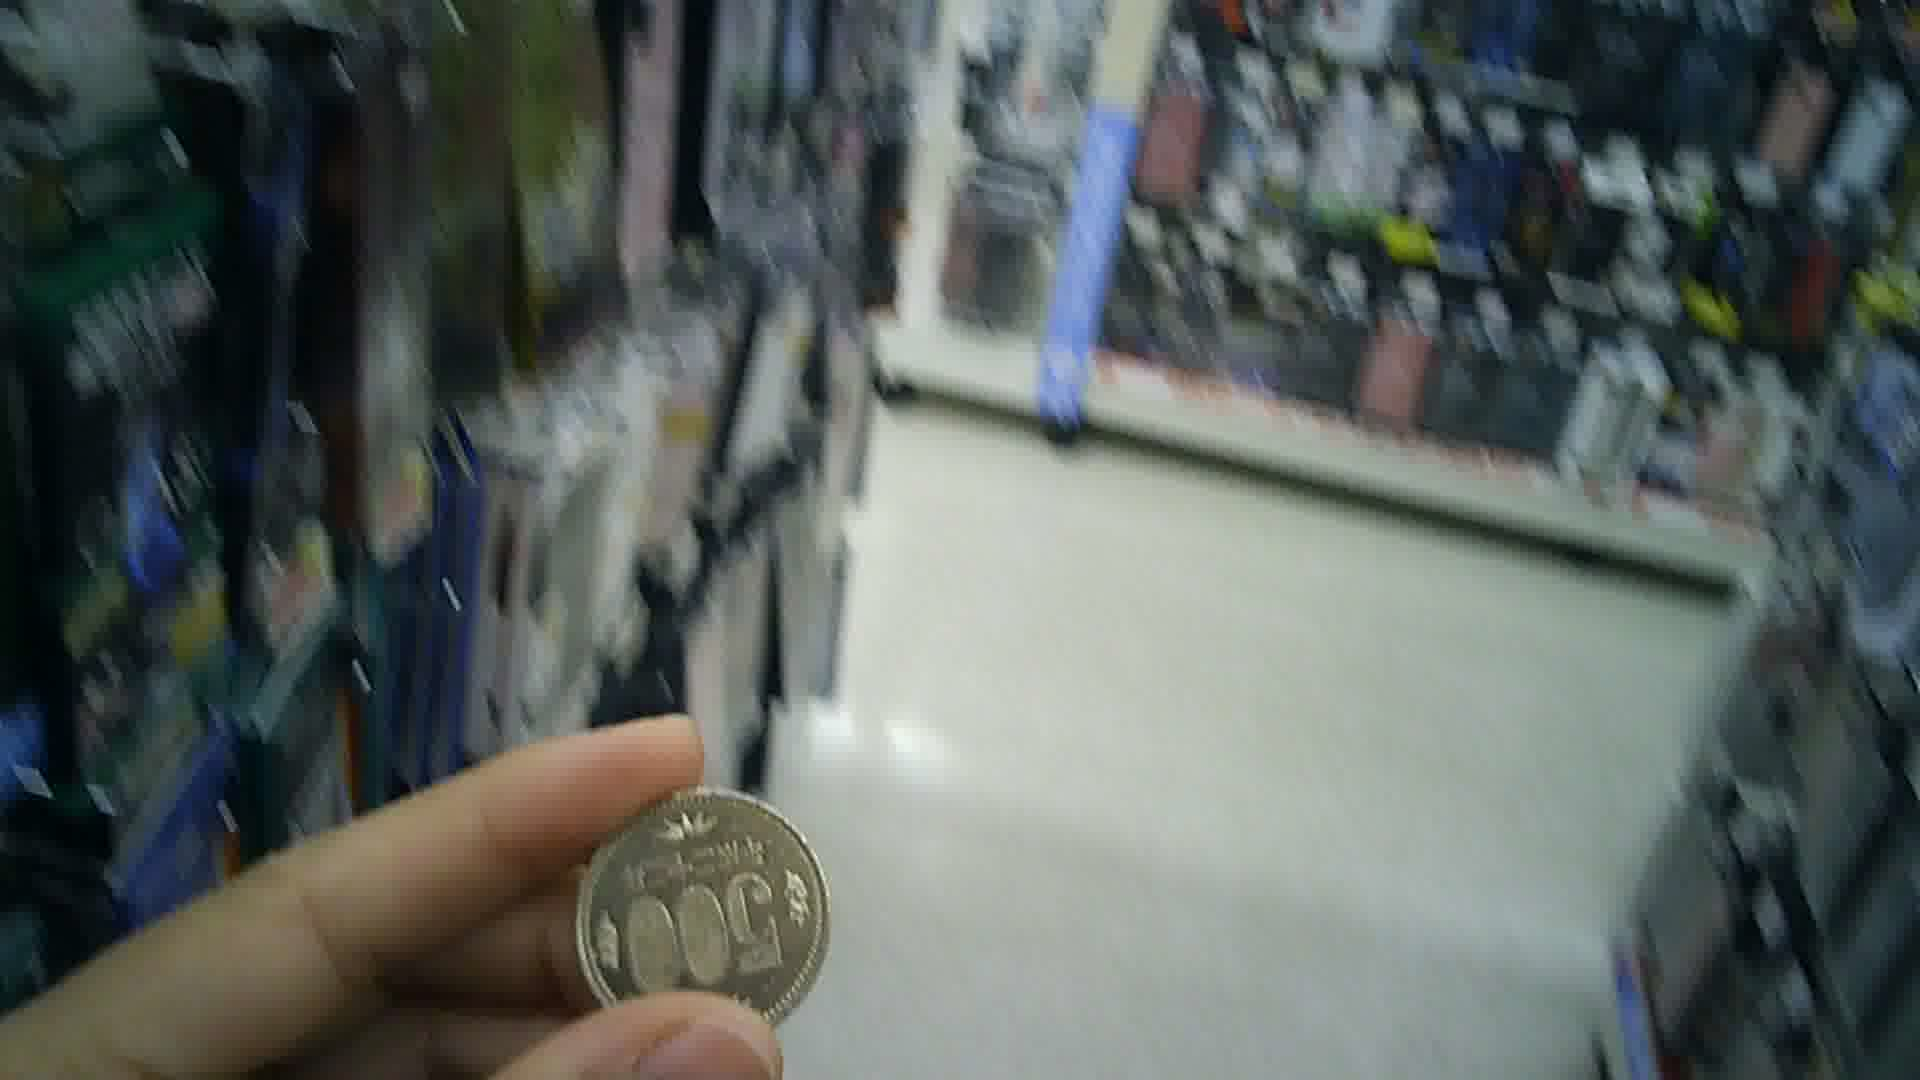500 Yen: (568, 783, 843, 1039)
